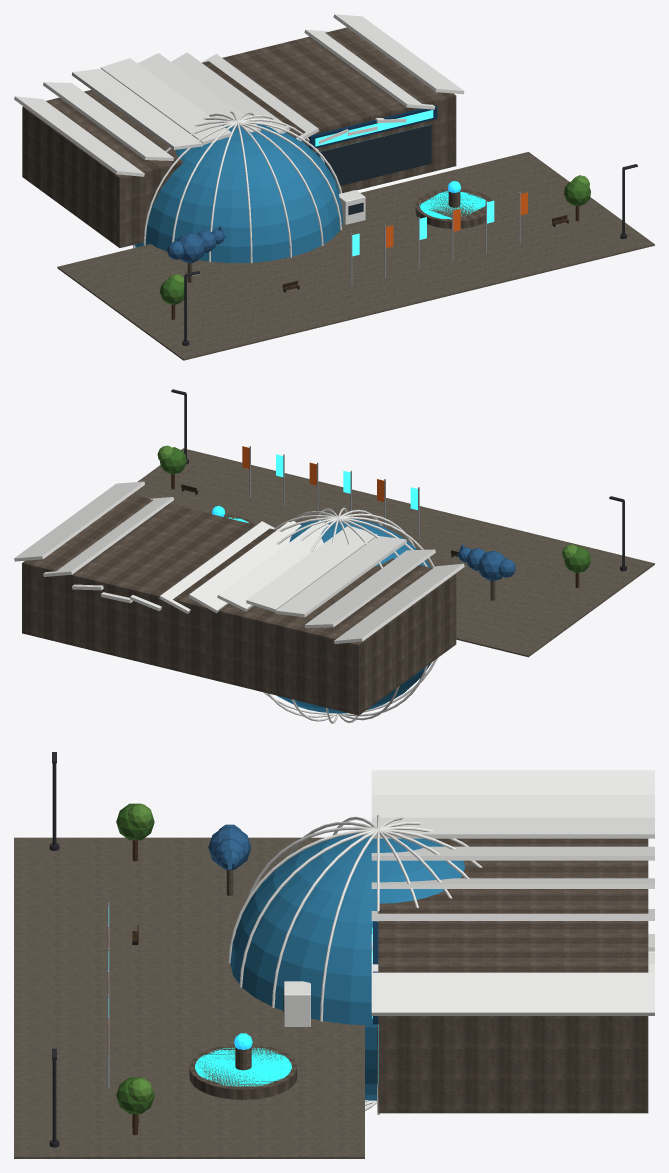
The model's file is OT_Aquarium_A.glb.
3 views of the same model, one above another, from view 1: azimuth 30°, elevation 25°; view 2: azimuth 150°, elevation 25°; view 3: azimuth 270°, elevation 25° (orthographic). The views are drawn at different scales.
Parts seen in each view (by area): view 1: OT_Aquarium_A_Pavement, OT_Aquarium_A_Concrete, OT_Aquarium_A_PaintWhite__f0f0ee, OT_Aquarium_A_AquaGlass__2e7fa8, OT_Aquarium_A_Glass__22303a, OT_Aquarium_A_NeonTeal__2fe0d8, OT_Aquarium_A_WhaleBlue__2d5f8a, OT_Aquarium_A_WaterGlow__1f8fff, OT_Aquarium_A_Leaf__3f6e2c, OT_Aquarium_A_AquaNavy__123a5a, OT_Aquarium_A_SteelGrey__9aa0a6, OT_Aquarium_A_PoleDark__2a2c30 (+1 smaller); view 2: OT_Aquarium_A_Concrete, OT_Aquarium_A_Pavement, OT_Aquarium_A_PaintWhite__f0f0ee, OT_Aquarium_A_AquaGlass__2e7fa8, OT_Aquarium_A_WhaleBlue__2d5f8a, OT_Aquarium_A_Leaf__3f6e2c, OT_Aquarium_A_SteelGrey__9aa0a6, OT_Aquarium_A_PoleDark__2a2c30, OT_Aquarium_A_BannerOrange__f26b1d, OT_Aquarium_A_NeonTeal__2fe0d8; view 3: OT_Aquarium_A_Pavement, OT_Aquarium_A_Concrete, OT_Aquarium_A_PaintWhite__f0f0ee, OT_Aquarium_A_AquaGlass__2e7fa8, OT_Aquarium_A_WaterGlow__1f8fff, OT_Aquarium_A_WhaleBlue__2d5f8a, OT_Aquarium_A_Leaf__3f6e2c, OT_Aquarium_A_PoleDark__2a2c30, OT_Aquarium_A_Leaf2__58893a.
Boxes of the visible parts, <box> form: OT_Aquarium_A_Pavement: <box>57,152,654,360</box>; OT_Aquarium_A_Concrete: <box>22,27,491,282</box>; OT_Aquarium_A_PaintWhite__f0f0ee: <box>14,14,464,263</box>; OT_Aquarium_A_AquaGlass__2e7fa8: <box>134,124,343,262</box>; OT_Aquarium_A_Glass__22303a: <box>316,125,431,215</box>; OT_Aquarium_A_NeonTeal__2fe0d8: <box>315,110,494,256</box>; OT_Aquarium_A_WhaleBlue__2d5f8a: <box>167,226,225,263</box>; OT_Aquarium_A_WaterGlow__1f8fff: <box>329,125,487,219</box>; OT_Aquarium_A_Leaf__3f6e2c: <box>160,180,590,304</box>; OT_Aquarium_A_AquaNavy__123a5a: <box>309,105,437,149</box>; OT_Aquarium_A_SteelGrey__9aa0a6: <box>351,192,520,285</box>; OT_Aquarium_A_PoleDark__2a2c30: <box>182,164,637,345</box>; OT_Aquarium_A_Concrete: <box>22,494,495,715</box>; OT_Aquarium_A_Pavement: <box>132,448,654,657</box>; OT_Aquarium_A_PaintWhite__f0f0ee: <box>14,481,464,723</box>; OT_Aquarium_A_AquaGlass__2e7fa8: <box>277,519,431,713</box>; OT_Aquarium_A_WhaleBlue__2d5f8a: <box>457,544,515,581</box>; OT_Aquarium_A_Leaf__3f6e2c: <box>160,447,590,572</box>; OT_Aquarium_A_SteelGrey__9aa0a6: <box>249,446,419,539</box>; OT_Aquarium_A_PoleDark__2a2c30: <box>171,389,626,571</box>; OT_Aquarium_A_BannerOrange__f26b1d: <box>242,446,384,501</box>; OT_Aquarium_A_NeonTeal__2fe0d8: <box>276,454,417,509</box>; OT_Aquarium_A_Pavement: <box>14,837,364,1158</box>; OT_Aquarium_A_Concrete: <box>189,838,648,1113</box>; OT_Aquarium_A_PaintWhite__f0f0ee: <box>228,770,654,1115</box>; OT_Aquarium_A_AquaGlass__2e7fa8: <box>230,833,464,1100</box>; OT_Aquarium_A_WaterGlow__1f8fff: <box>195,1024,378,1086</box>; OT_Aquarium_A_WhaleBlue__2d5f8a: <box>208,824,251,869</box>; OT_Aquarium_A_Leaf__3f6e2c: <box>116,803,154,1113</box>; OT_Aquarium_A_PoleDark__2a2c30: <box>49,752,59,1147</box>; OT_Aquarium_A_Leaf2__58893a: <box>128,804,152,1102</box>.
Size of the model in its own units: 56 by 22.28 by 47.5.
18 materials, 3 textured.
